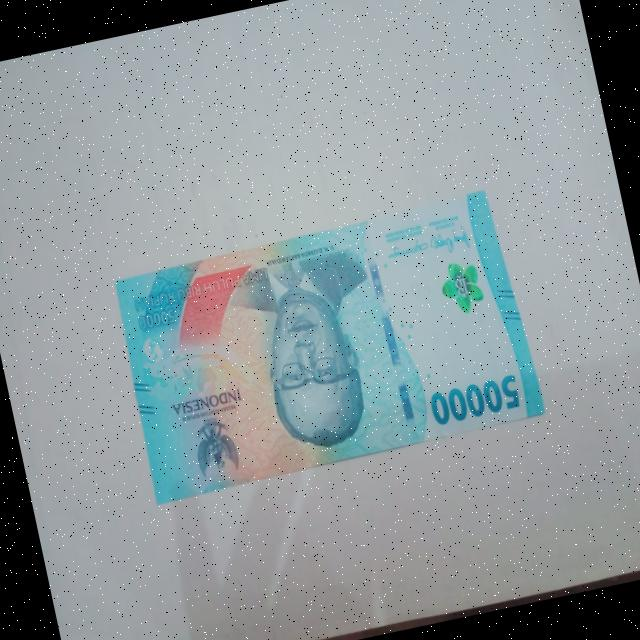50K: (92, 170, 562, 518)
